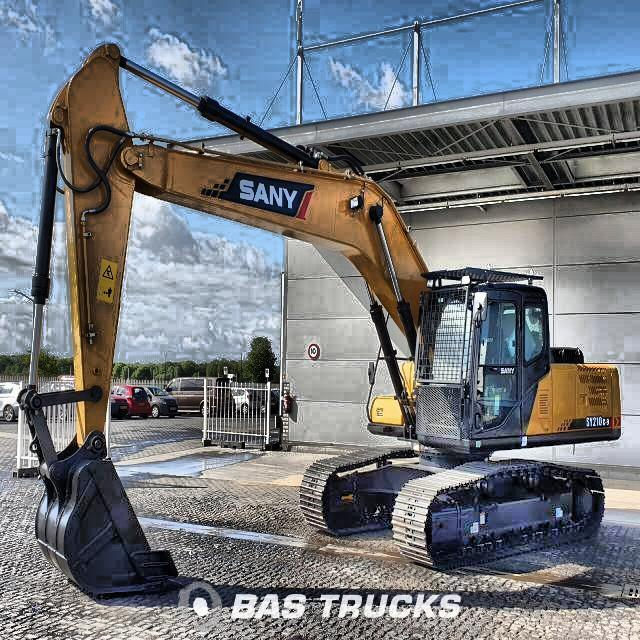excavator: (19, 41, 622, 598)
